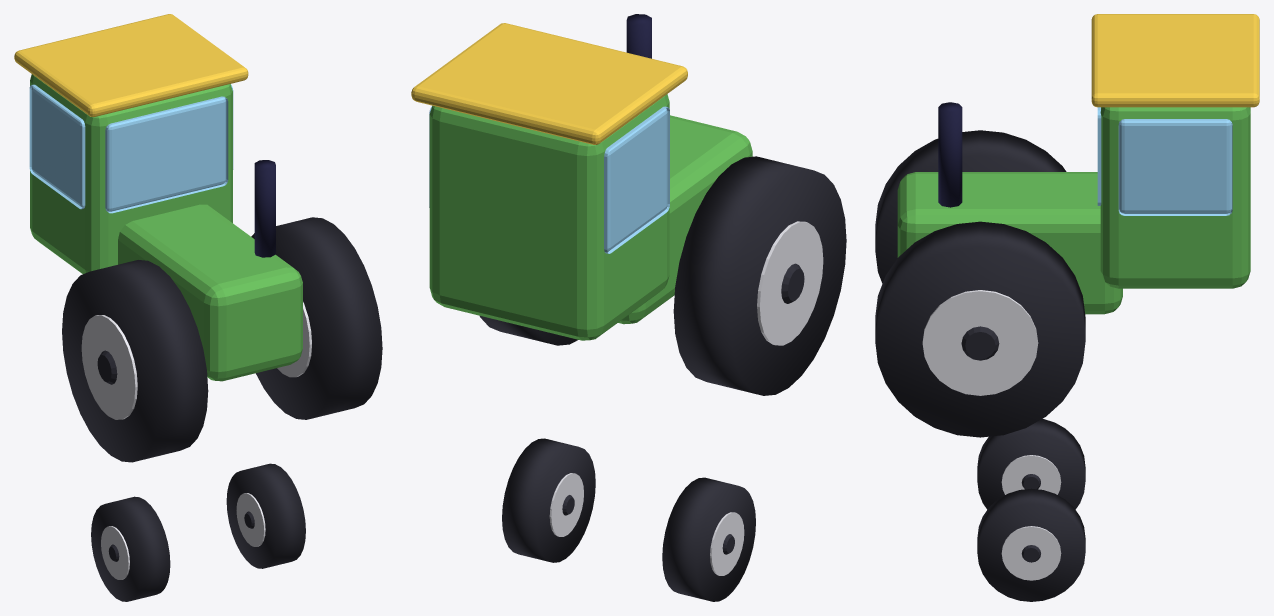
Rendered from Car_Tractor.fbx.
The picture shows the model from 3 angles, left to right: view 1: azimuth 30°, elevation 25°; view 2: azimuth 150°, elevation 25°; view 3: azimuth 270°, elevation 25°; orthographic projection. The views are drawn at different scales.
Parts seen in each view (by area): view 1: Car_Tractor, Wheel_RL, Wheel_RR, Wheel_FR, Wheel_FL; view 2: Car_Tractor, Wheel_RL, Wheel_FR, Wheel_FL, Wheel_RR; view 3: Car_Tractor, Wheel_RR, Wheel_FR, Wheel_FL, Wheel_RL.
Boxes of the visible parts, x1,y1,x2,y2 form: Car_Tractor: (14,14,302,381); Wheel_RL: (62,260,208,462); Wheel_RR: (251,217,382,419); Wheel_FR: (226,463,305,568); Wheel_FL: (91,496,170,601); Car_Tractor: (411,14,752,340); Wheel_RL: (673,156,846,395); Wheel_FR: (502,438,595,562); Wheel_FL: (662,477,755,601); Wheel_RR: (479,316,578,345); Car_Tractor: (897,14,1259,314); Wheel_RR: (875,221,1085,437); Wheel_FR: (977,488,1085,601); Wheel_FL: (977,419,1085,509); Wheel_RL: (875,130,1066,283).
Bounding box in the file's own units: 0.972 × 1.85 × 1.28.
